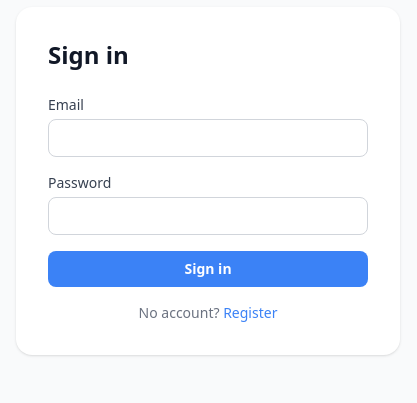
Login page › shows error message on failed login
In the field labelled "Email": (208, 138) [48, 119, 368, 157], type "alice@example.com"
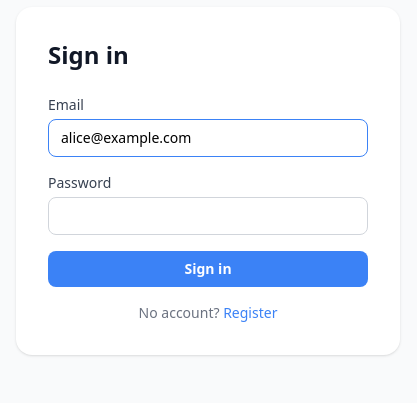
In the password field labelled "Password": (208, 216) [48, 197, 368, 235], type "wrong"
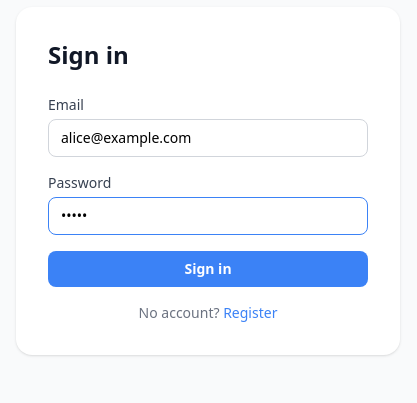
Click the button "Sign in": (208, 269) [48, 251, 368, 287]
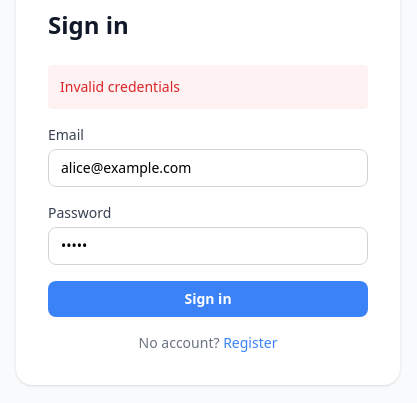
Now the message reads "Invalid credentials", box [60, 77, 180, 96]
